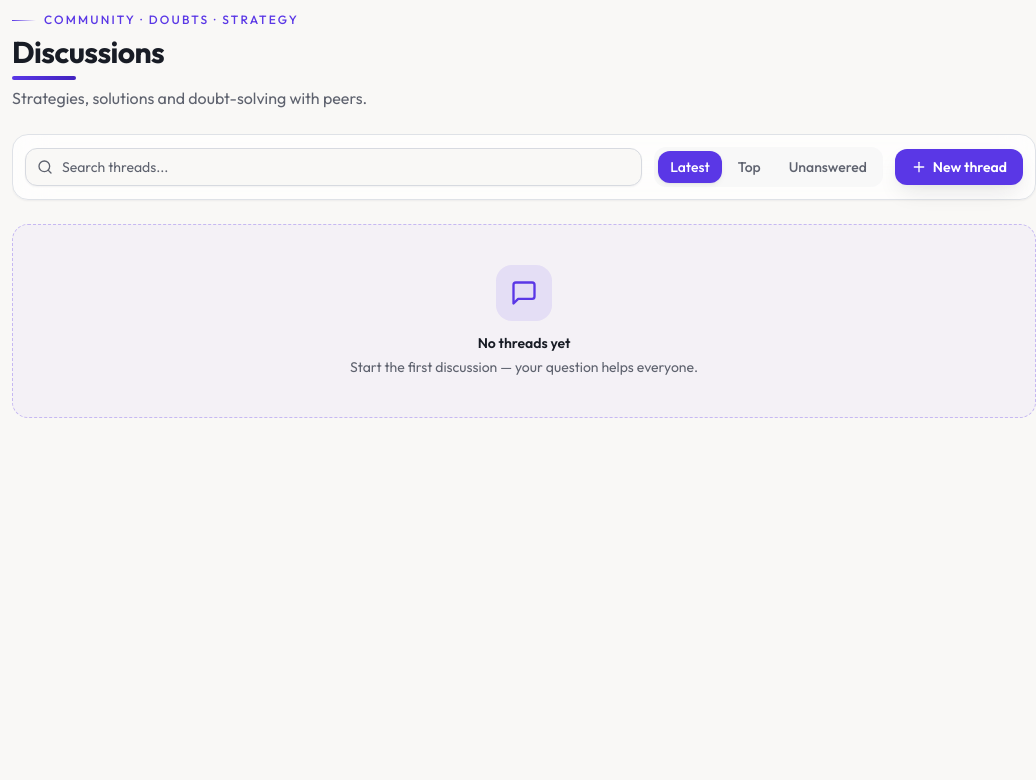
Test: DiscussionsPage › disables posting until the title and body are long enough
Click the button "New thread" at (959, 167), box [895, 149, 1023, 185]
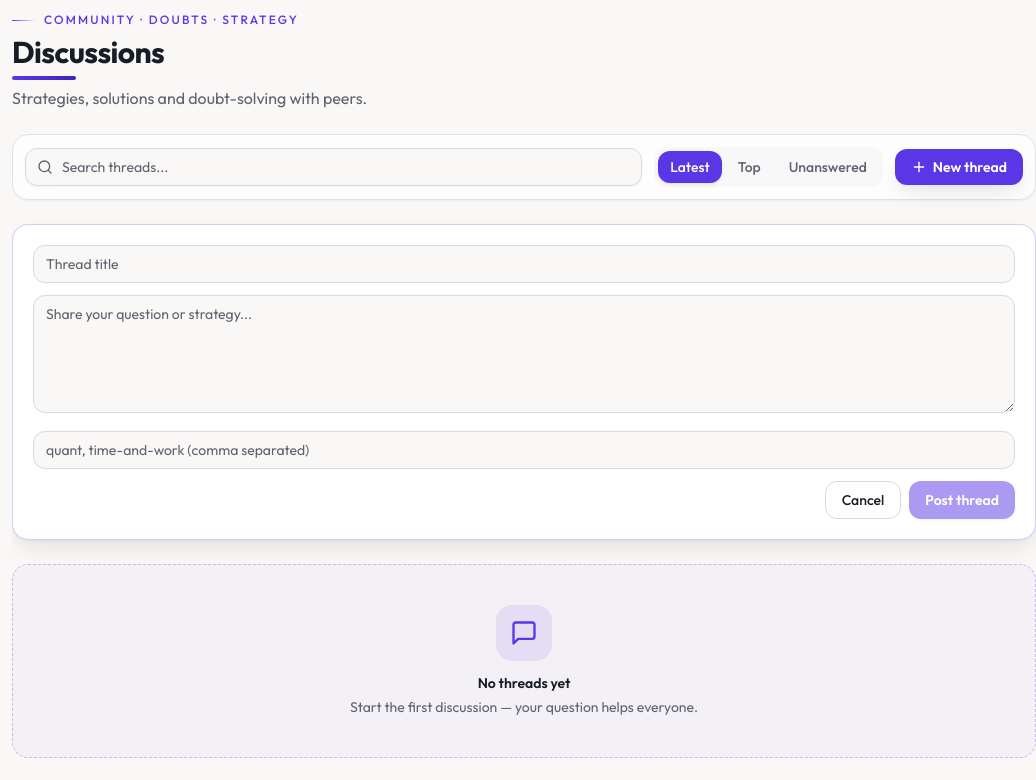
Now the button "Post thread" is disabled, box [909, 481, 1015, 519]
Type "A valid title" into the field with placeholder "Thread title" at (524, 264), box [33, 245, 1015, 283]
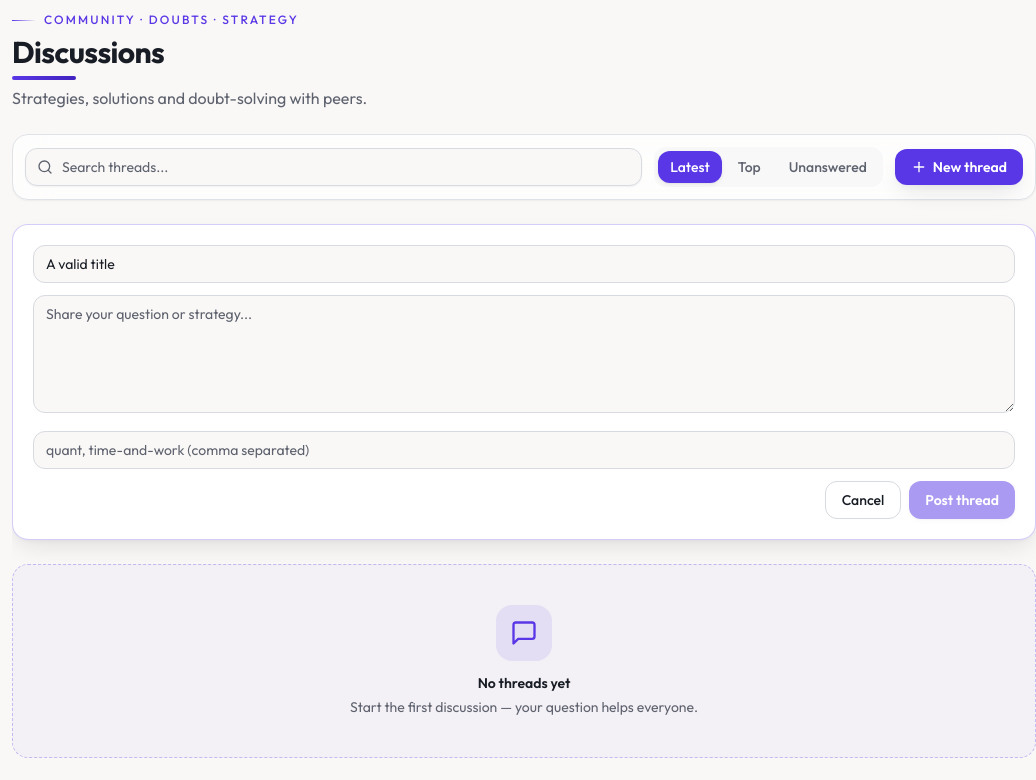
Type "A body that is long enough" into the text box with placeholder "Share your question or strategy..." at (524, 354), box [33, 295, 1015, 413]
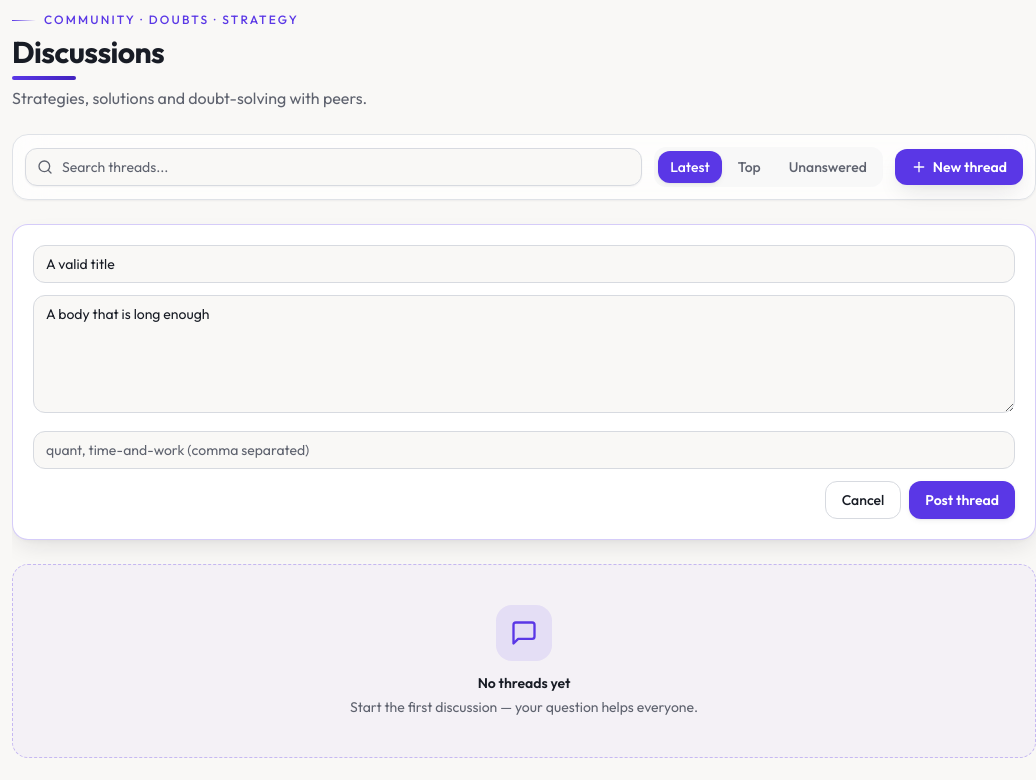
Now the button "Post thread" is enabled, box [909, 481, 1015, 519]
